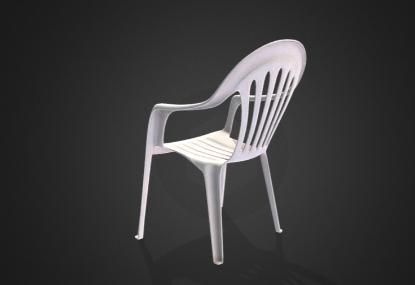chair: (132, 32, 308, 270)
